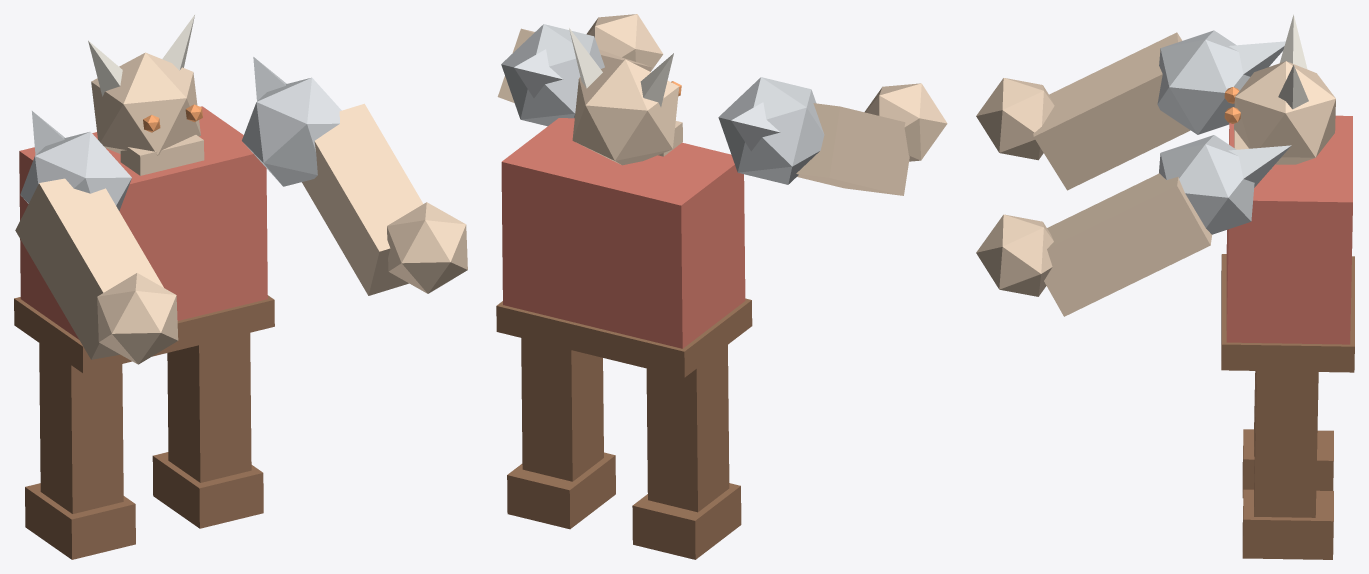
Rendered from npcpose_brute_attack_01.glb.
3 renders of one model, left to right at view 1: azimuth 30°, elevation 25°; view 2: azimuth 150°, elevation 25°; view 3: azimuth 270°, elevation 25°, orthographic. The views are drawn at different scales.
Visible parts, largest first — view 1: npcpose; view 2: npcpose; view 3: npcpose.
Boxes of the visible parts, x1=… form: npcpose: x1=14, y1=15, x2=467, y2=559; npcpose: x1=496, y1=14, x2=947, y2=559; npcpose: x1=976, y1=14, x2=1354, y2=559.
Bounding box in the file's own units: 1.43 × 1.85 × 1.34.
